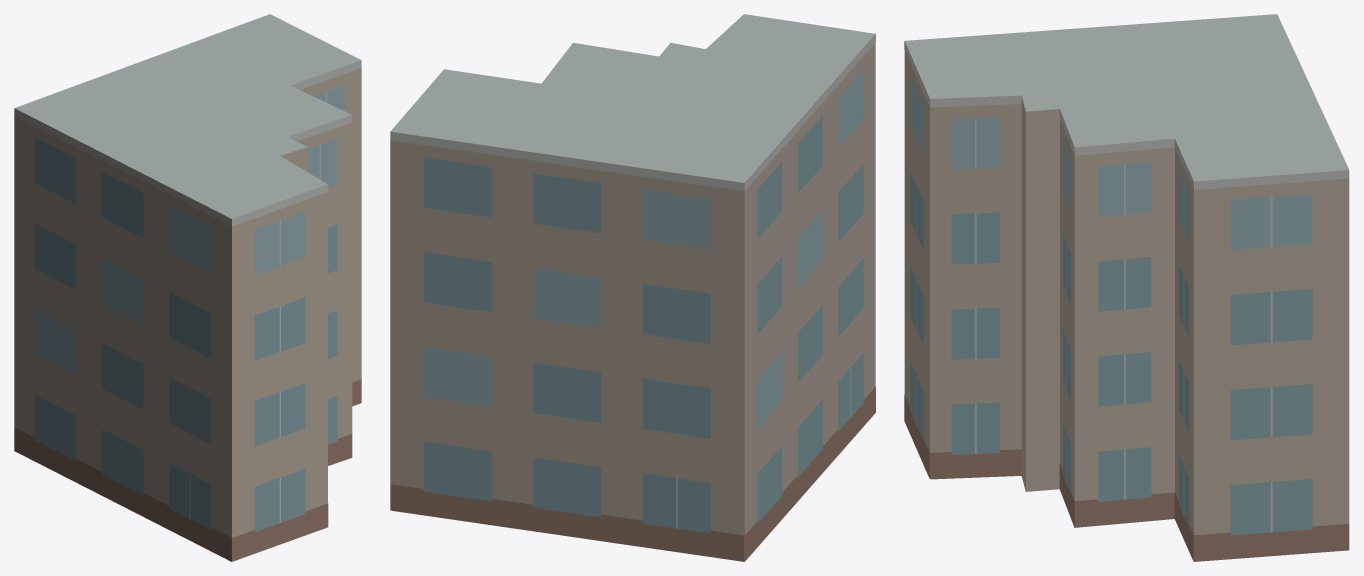
File: survey-upis-32576134.glb
3 renders of one model, left to right at view 1: azimuth 30°, elevation 25°; view 2: azimuth 150°, elevation 25°; view 3: azimuth 270°, elevation 25°, orthographic. The views are drawn at different scales.
Visible parts, largest first — view 1: survey-upis-32576134.tmp; view 2: survey-upis-32576134.tmp; view 3: survey-upis-32576134.tmp.
Boxes of the visible parts, bbox=[...] form: survey-upis-32576134.tmp: bbox=[14, 14, 361, 561]; survey-upis-32576134.tmp: bbox=[390, 14, 875, 561]; survey-upis-32576134.tmp: bbox=[904, 14, 1349, 561].
Bounding box in the file's own units: 10.31 × 10.9 × 11.57.
